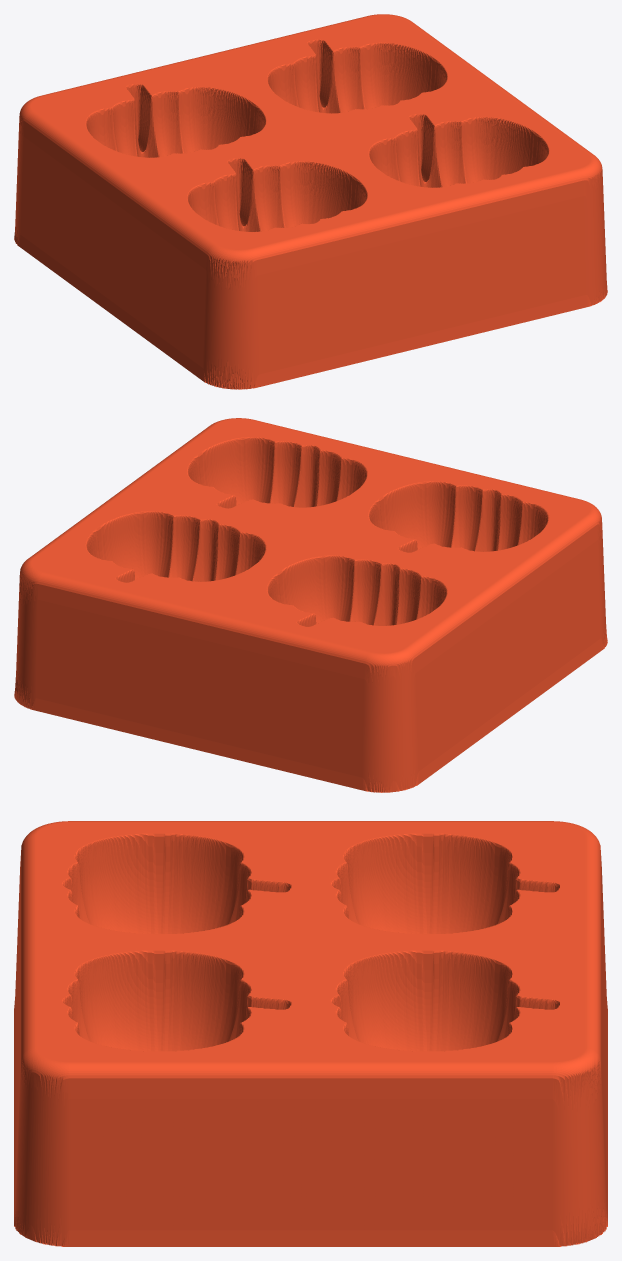
The model's file is mold.glb.
The picture shows the model from 3 angles, top to bottom: view 1: azimuth 30°, elevation 25°; view 2: azimuth 150°, elevation 25°; view 3: azimuth 270°, elevation 25°; orthographic projection. The views are drawn at different scales.
Visible parts, largest first — view 1: geometry_0; view 2: geometry_0; view 3: geometry_0.
Part boxes in pixels (left/top/right/bottom): geometry_0: left=14, top=14, right=607, bottom=389; geometry_0: left=14, top=418, right=607, bottom=792; geometry_0: left=14, top=821, right=607, bottom=1246.
Size of the model in its own units: 0.0992 by 0.0314 by 0.0964.
